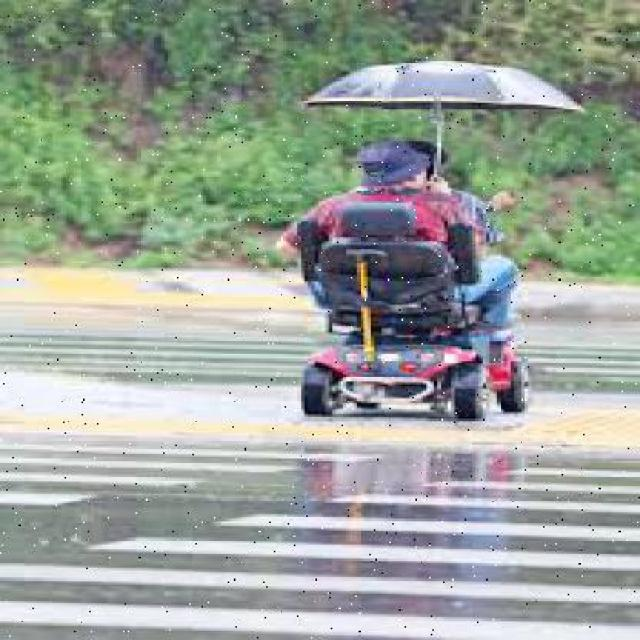Person: (279, 144, 535, 418)
